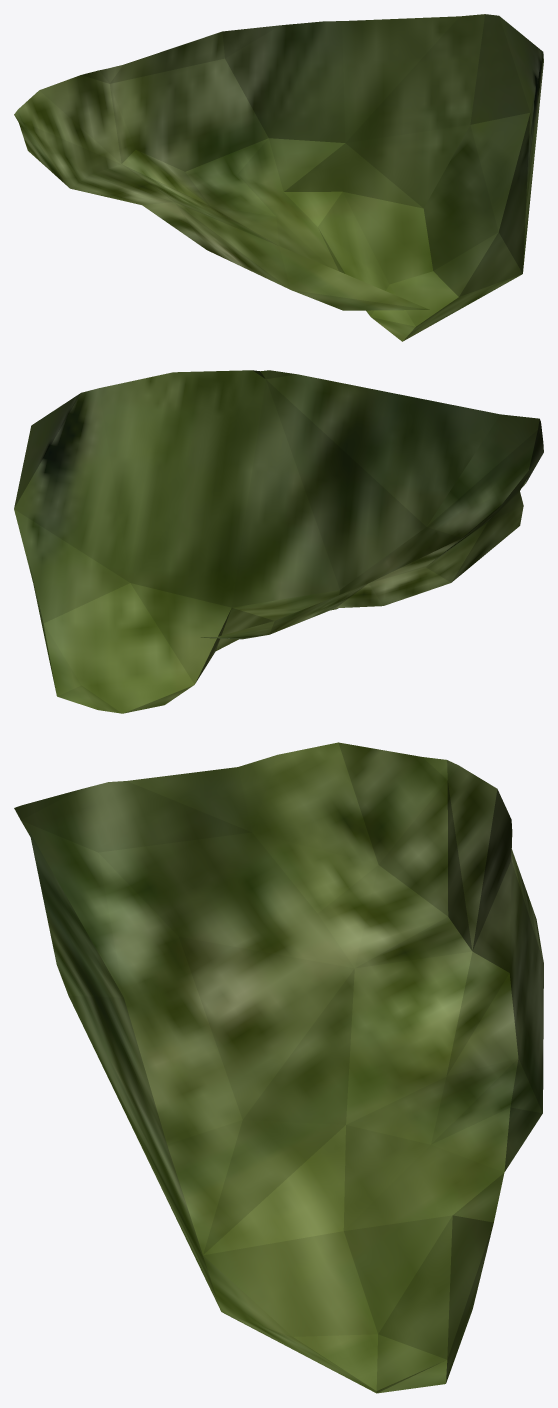
3 views of the same model, one above another, from view 1: azimuth 30°, elevation 25°; view 2: azimuth 150°, elevation 25°; view 3: azimuth 270°, elevation 25° (orthographic). The views are drawn at different scales.
Size of the model in its own units: 0.9299 by 0.4898 by 0.6129.
1 material, 1 textured.
